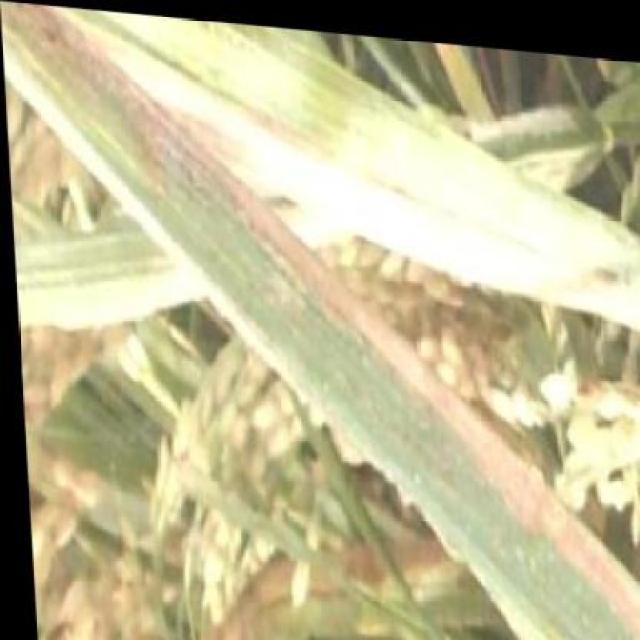Brown_Spot: (0, 37, 491, 263), (362, 444, 636, 638)
